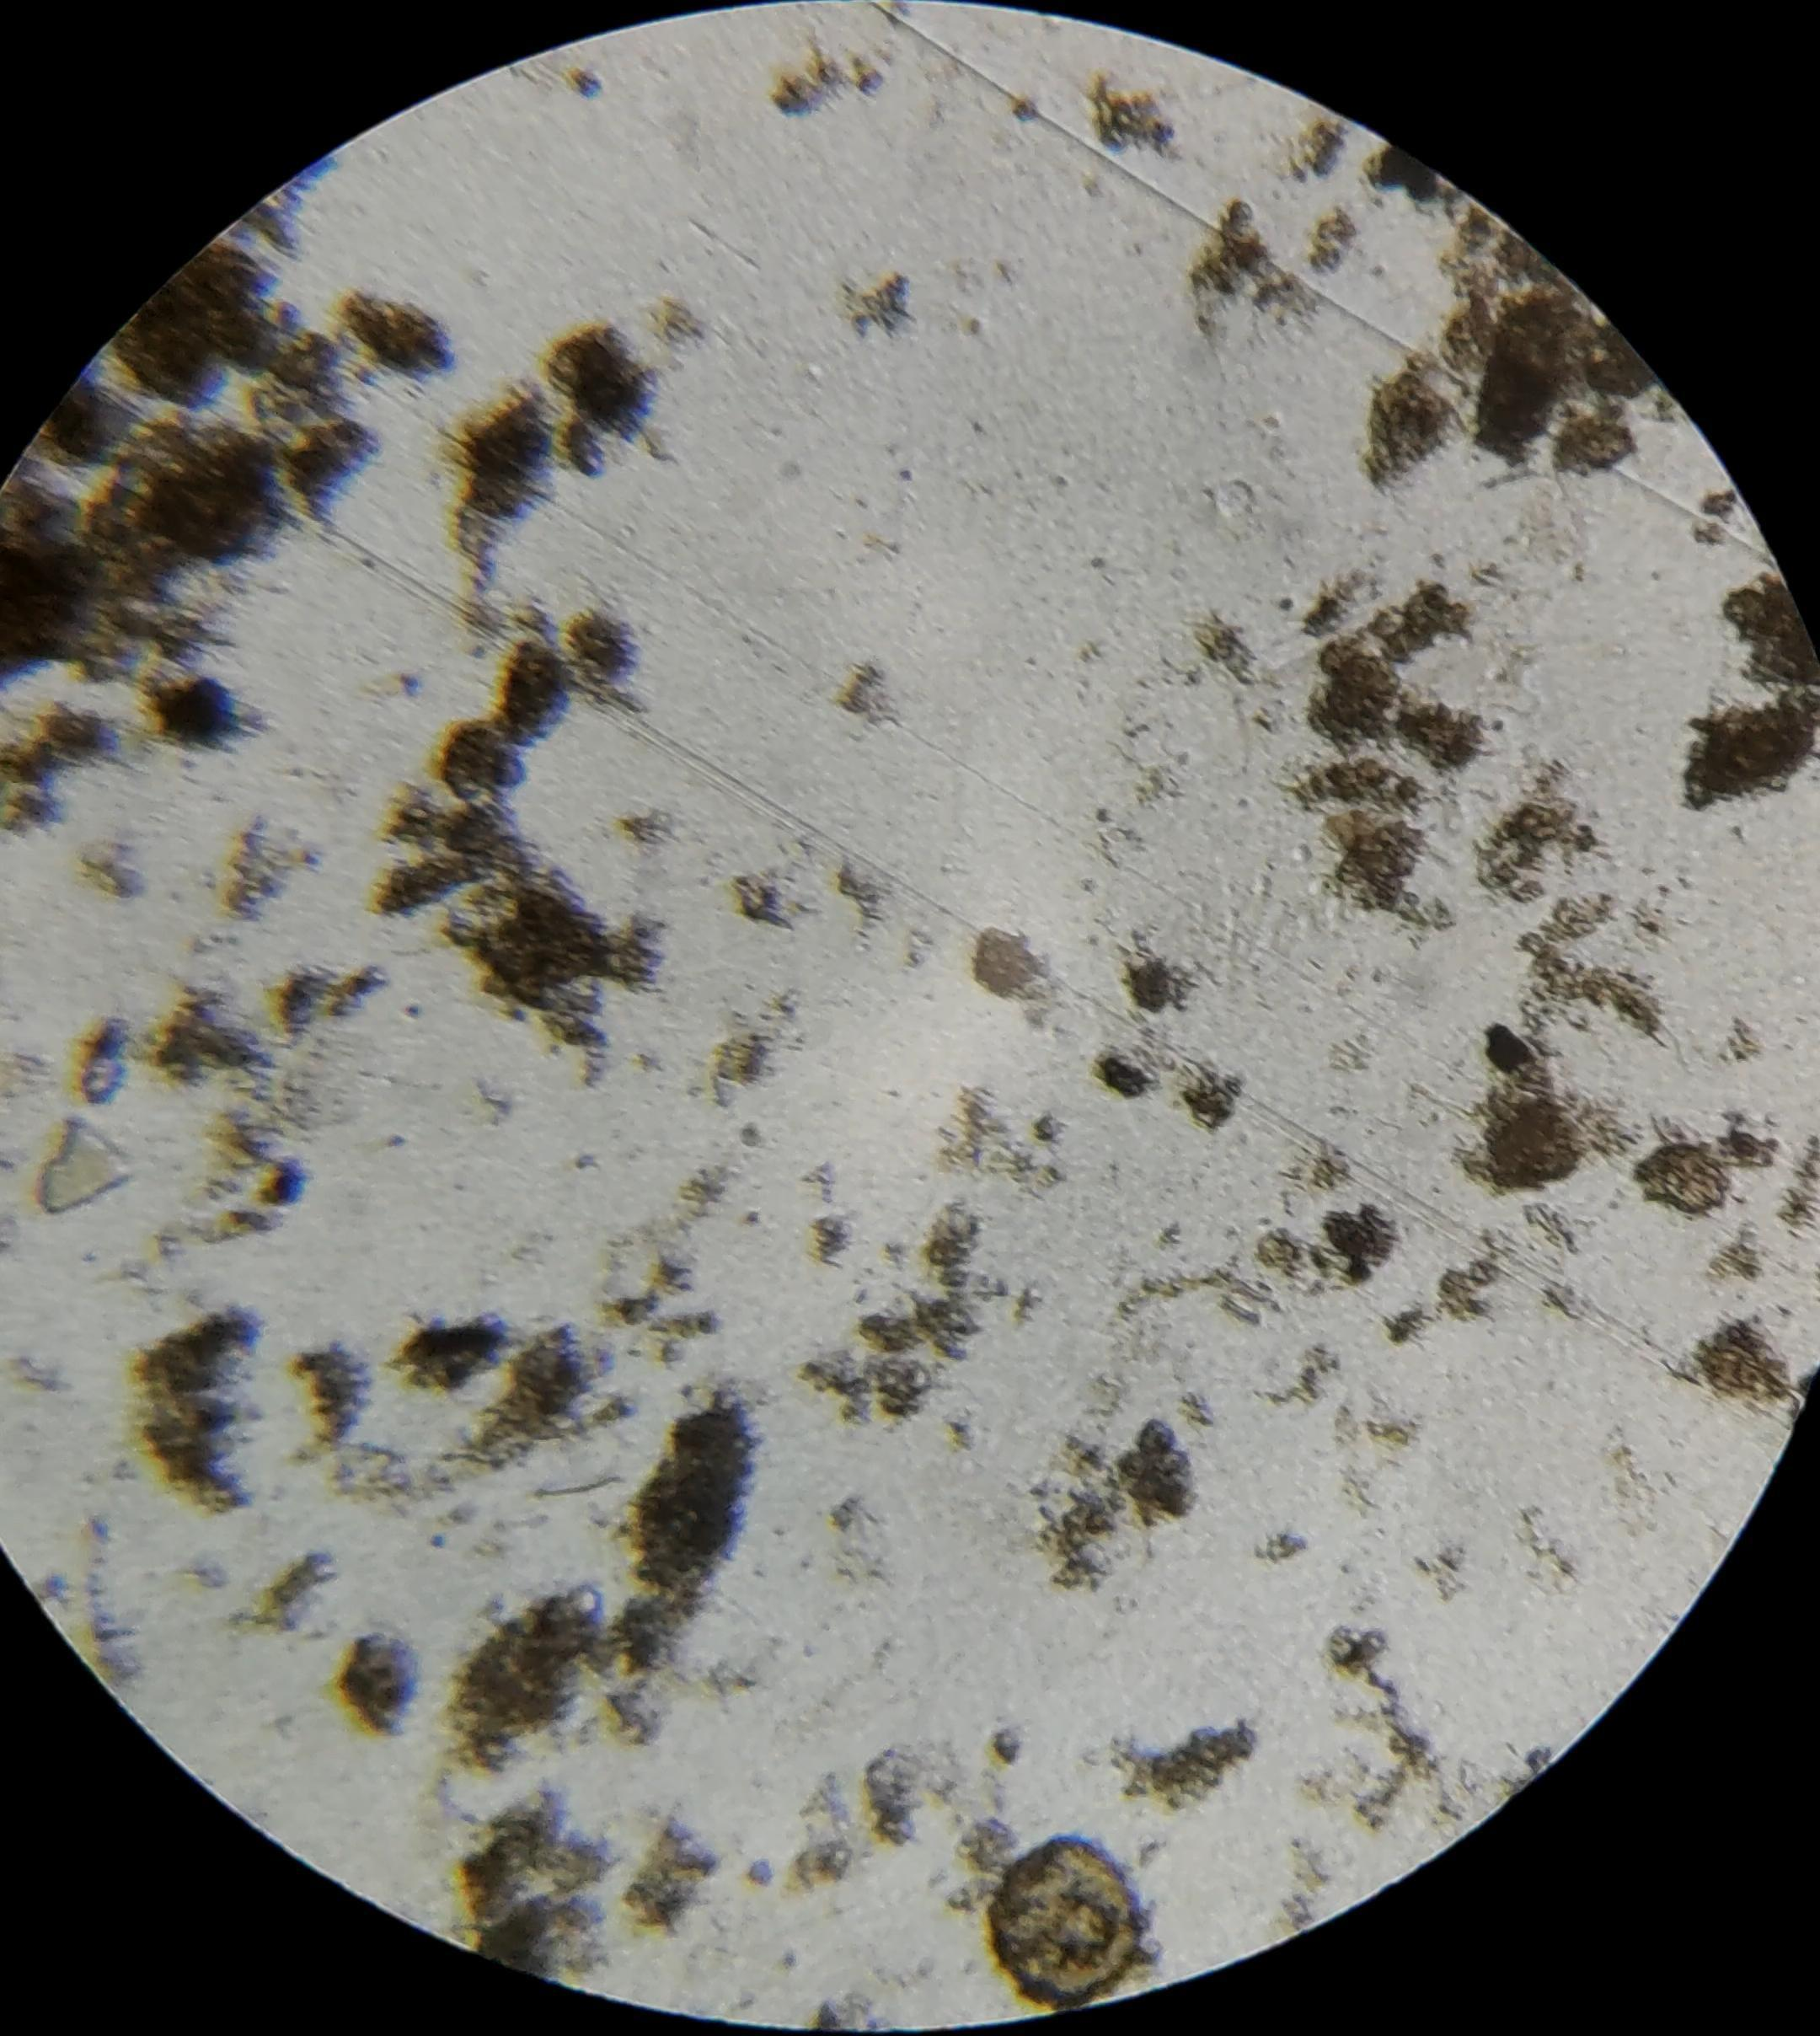Arcella: (993, 1841, 1138, 1999)
